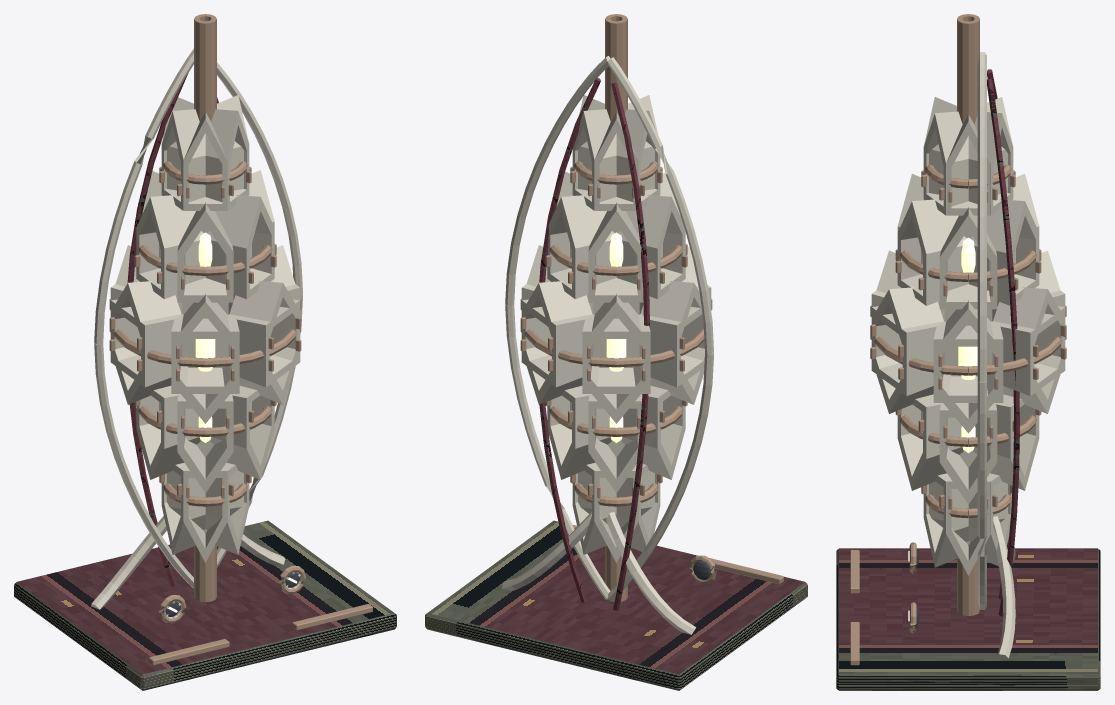
File: inversion_cell_prism.glb
The picture shows the model from 3 angles, left to right: view 1: azimuth 30°, elevation 25°; view 2: azimuth 150°, elevation 25°; view 3: azimuth 270°, elevation 25°; orthographic projection. The views are drawn at different scales.
Visible parts, largest first — view 1: inversion_cell_prism_warm, inversion_cell_prism_petrol, inversion_cell_prism_worn, inversion_cell_prism_bruised, inversion_cell_prism_sick; view 2: inversion_cell_prism_warm, inversion_cell_prism_petrol, inversion_cell_prism_worn, inversion_cell_prism_bruised, inversion_cell_prism_sick; view 3: inversion_cell_prism_warm, inversion_cell_prism_petrol, inversion_cell_prism_worn, inversion_cell_prism_bruised, inversion_cell_prism_sick.
Part boxes in pixels (box(x1,y1,x2,y2)): inversion_cell_prism_warm: box(91, 49, 302, 618); inversion_cell_prism_petrol: box(14, 520, 396, 690); inversion_cell_prism_worn: box(109, 14, 372, 665); inversion_cell_prism_bruised: box(127, 73, 218, 586); inversion_cell_prism_sick: box(168, 232, 297, 612); inversion_cell_prism_warm: box(502, 56, 713, 634); inversion_cell_prism_petrol: box(425, 520, 807, 690); inversion_cell_prism_worn: box(520, 14, 783, 601); inversion_cell_prism_bruised: box(539, 77, 649, 610); inversion_cell_prism_sick: box(606, 232, 626, 442); inversion_cell_prism_warm: box(871, 52, 1065, 658); inversion_cell_prism_petrol: box(836, 548, 1100, 690); inversion_cell_prism_worn: box(850, 14, 1066, 665); inversion_cell_prism_bruised: box(987, 69, 1019, 616); inversion_cell_prism_sick: box(908, 237, 977, 621).
Bounding box in the file's own units: 3.9 × 8.65 × 3.4.
Materials: 6 (2 with a texture image).
